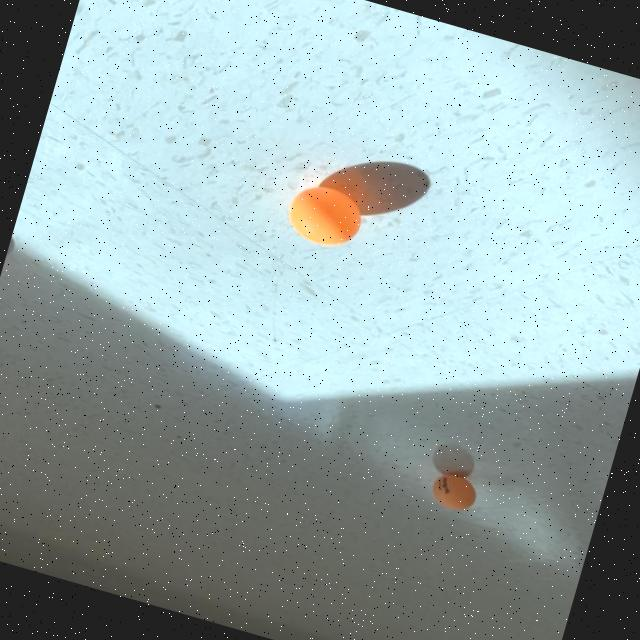ping-pong-ball: (276, 172, 376, 259), (422, 464, 487, 518)
